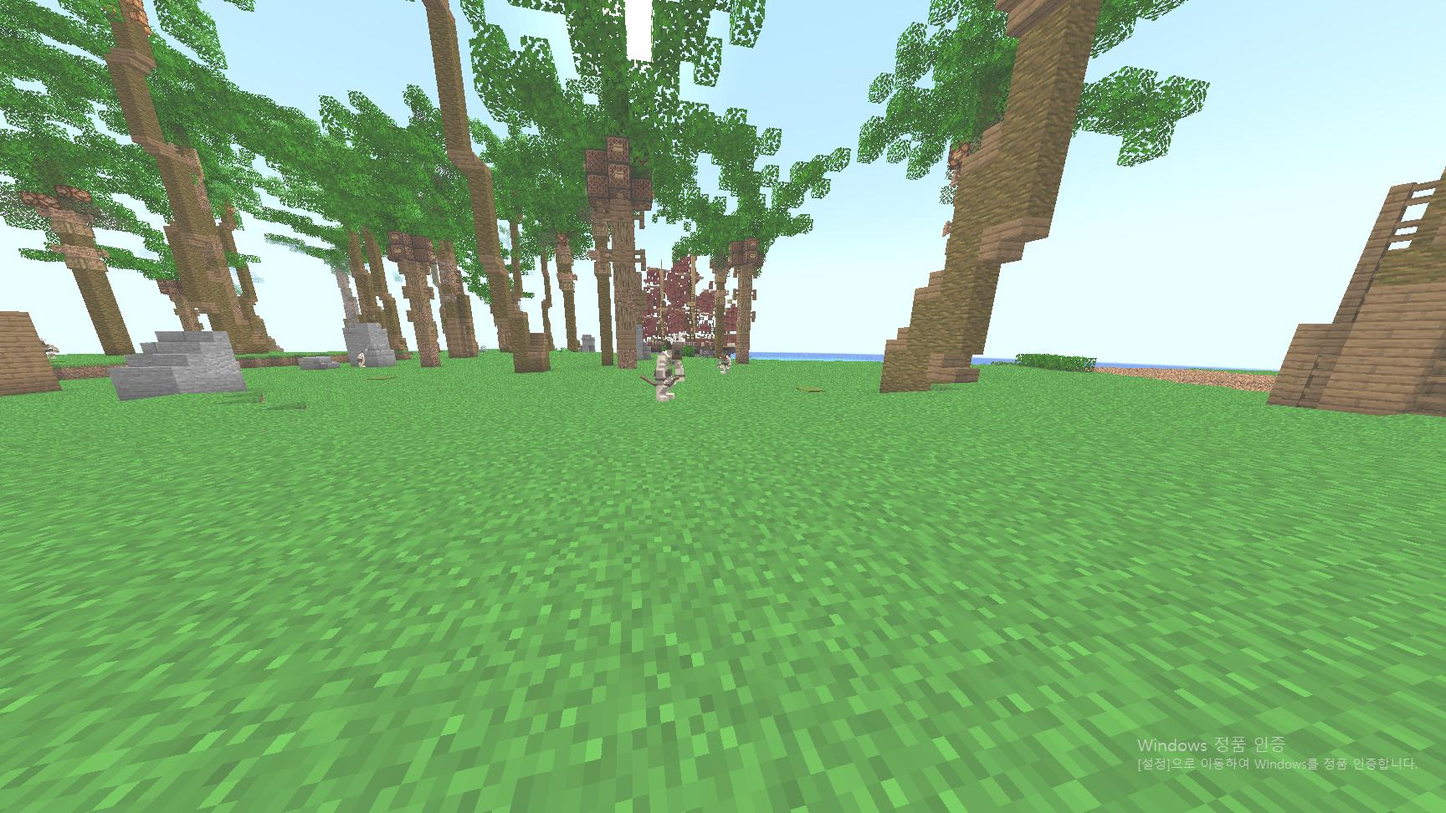bow_indian: (639, 326, 699, 402)
